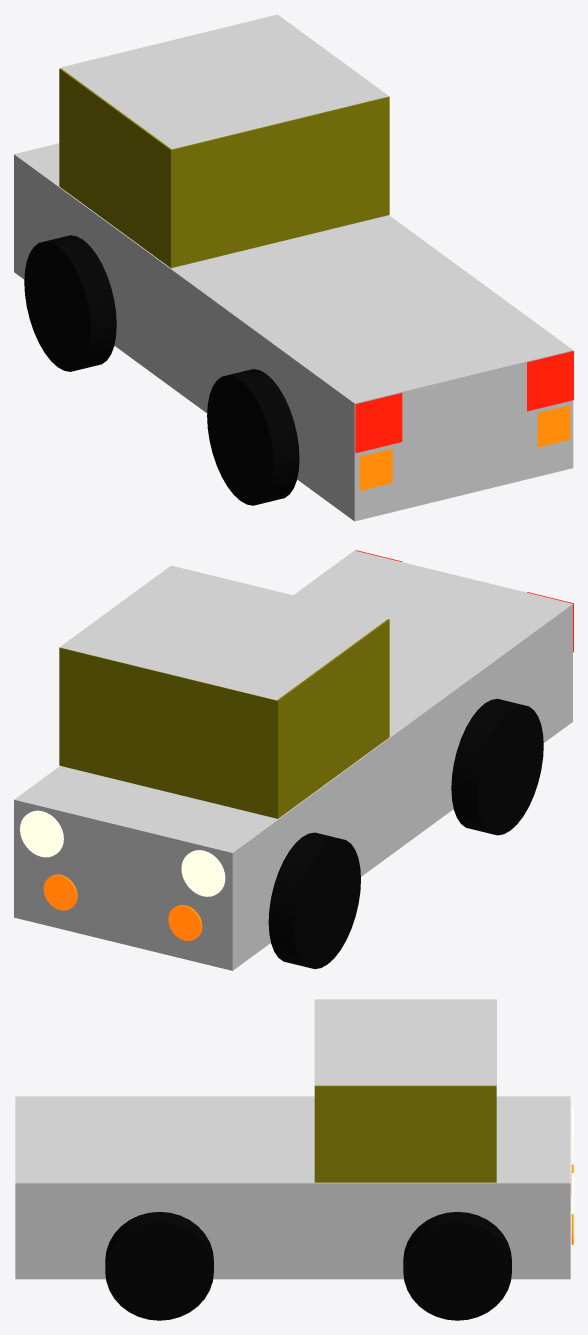
File: pickup truck 2.fbx
3 views of the same model, one above another, from view 1: azimuth 30°, elevation 25°; view 2: azimuth 150°, elevation 25°; view 3: azimuth 270°, elevation 25° (orthographic). The views are drawn at different scales.
Parts seen in each view (by area): view 1: Cube.078, Cube.079, Plane.159, Circle.273, Circle.275, Plane.155, Plane.156, Plane.157, Plane.158; view 2: Cube.078, Cube.079, Plane.159, Circle.275, Circle.273, Circle.268, Circle.276, Circle.270, Circle.269; view 3: Cube.078, Cube.079, Plane.159, Circle.272, Circle.274.
Boxes of the visible parts, x1,y1,x2,y2 form: Cube.078: [14, 143, 573, 521]; Cube.079: [59, 68, 389, 268]; Plane.159: [60, 14, 388, 149]; Circle.273: [24, 235, 116, 371]; Circle.275: [207, 369, 299, 505]; Plane.155: [355, 393, 402, 453]; Plane.156: [527, 351, 573, 411]; Plane.157: [537, 405, 570, 447]; Plane.158: [359, 448, 392, 490]; Cube.078: [14, 550, 572, 970]; Cube.079: [59, 619, 389, 818]; Plane.159: [60, 565, 388, 700]; Circle.275: [451, 698, 543, 835]; Circle.273: [268, 832, 360, 968]; Circle.268: [20, 810, 63, 857]; Circle.276: [181, 850, 225, 896]; Circle.270: [43, 874, 77, 910]; Circle.269: [168, 905, 202, 940]; Cube.078: [15, 1096, 570, 1279]; Cube.079: [314, 1085, 496, 1182]; Plane.159: [314, 999, 496, 1085]; Circle.272: [403, 1212, 511, 1320]; Circle.274: [105, 1212, 213, 1320].
Size of the model in its own units: 247 by 241 by 544.
